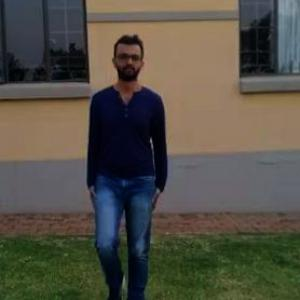follow: (82, 28, 167, 299)
